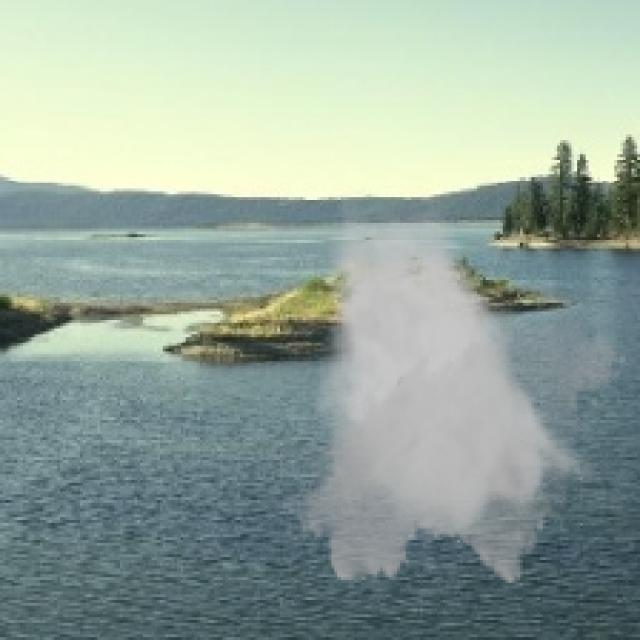Smoke: (286, 195, 628, 594)
